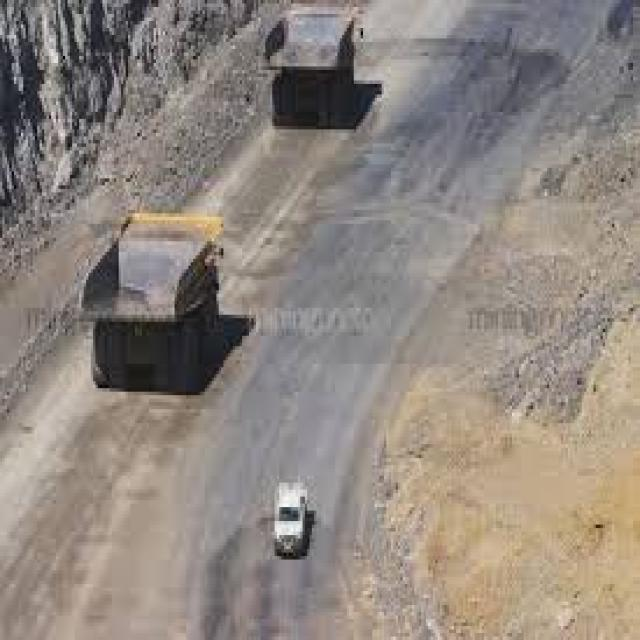dump_truck: (72, 185, 249, 420), (254, 7, 391, 150)
light_vehicle: (249, 458, 326, 574)
